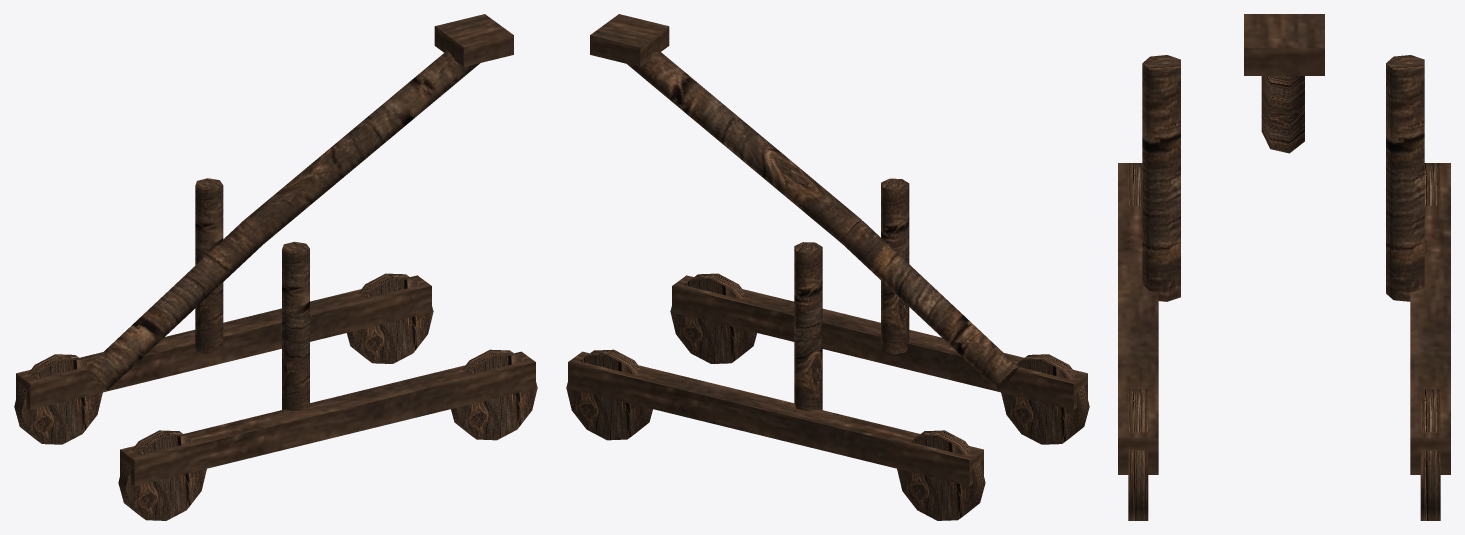
The model's file is catapult.glb.
3 views of the same model, side by side, from view 1: azimuth 30°, elevation 25°; view 2: azimuth 150°, elevation 25°; view 3: azimuth 270°, elevation 25° (orthographic). The views are drawn at different scales.
Visible parts, largest first — view 1: part_0; view 2: part_0; view 3: part_0.
Part boxes in pixels (bbox=[...]): part_0: bbox=[14, 14, 537, 520]; part_0: bbox=[566, 14, 1089, 520]; part_0: bbox=[1118, 14, 1450, 520].
Bounding box in the file's own units: 1.37 × 1.1 × 0.6553.
Materials: 1 (1 with a texture image).
